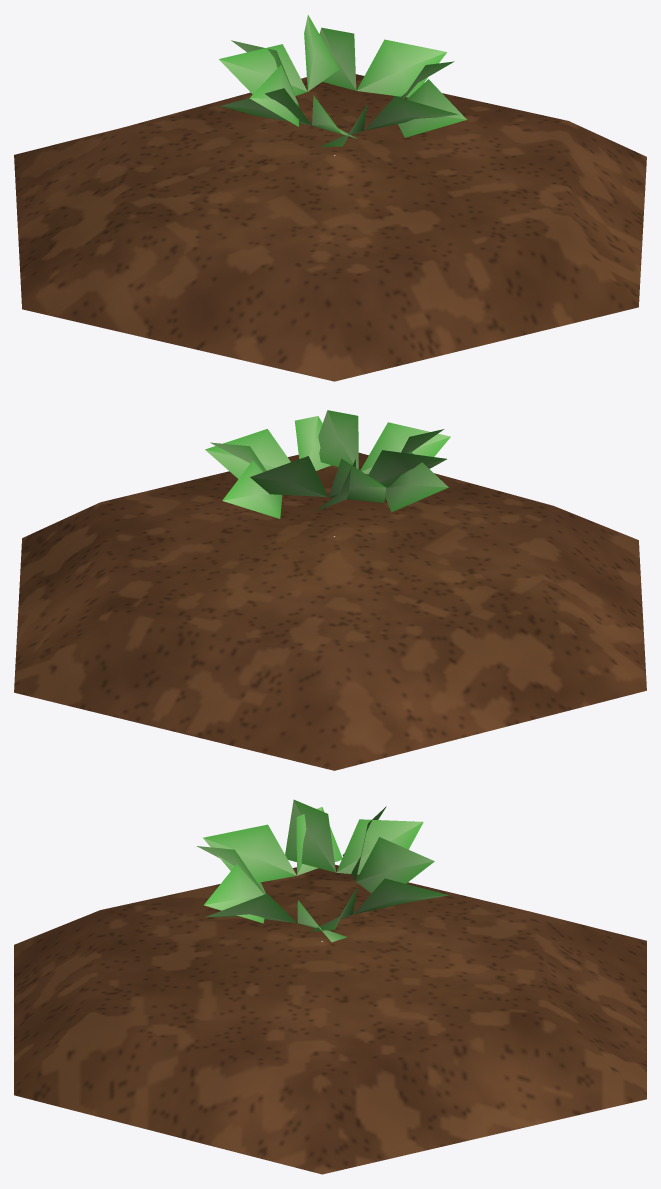
File: plant-carrot-4-far.glb
3 views of the same model, one above another, from view 1: azimuth 30°, elevation 25°; view 2: azimuth 150°, elevation 25°; view 3: azimuth 270°, elevation 25° (orthographic).
Visible parts, largest first — view 1: plant-carrot-4-far; view 2: plant-carrot-4-far; view 3: plant-carrot-4-far.
Boxes of the visible parts, x1,y1,x2,y2 form: plant-carrot-4-far: (14, 15, 646, 381); plant-carrot-4-far: (14, 410, 646, 770); plant-carrot-4-far: (14, 799, 646, 1174).
Size of the model in its own units: 0.84 by 0.2309 by 0.7275.
2 materials, 1 textured.
